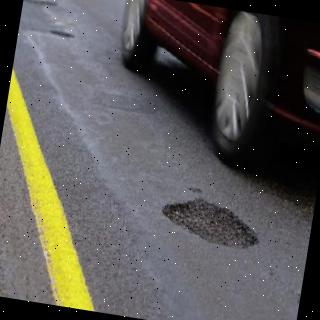pothole: (161, 200, 258, 250)
